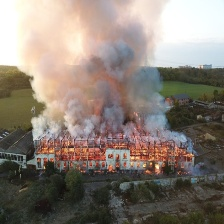fire: (38, 138, 195, 171)
smoke: (23, 1, 169, 136)
